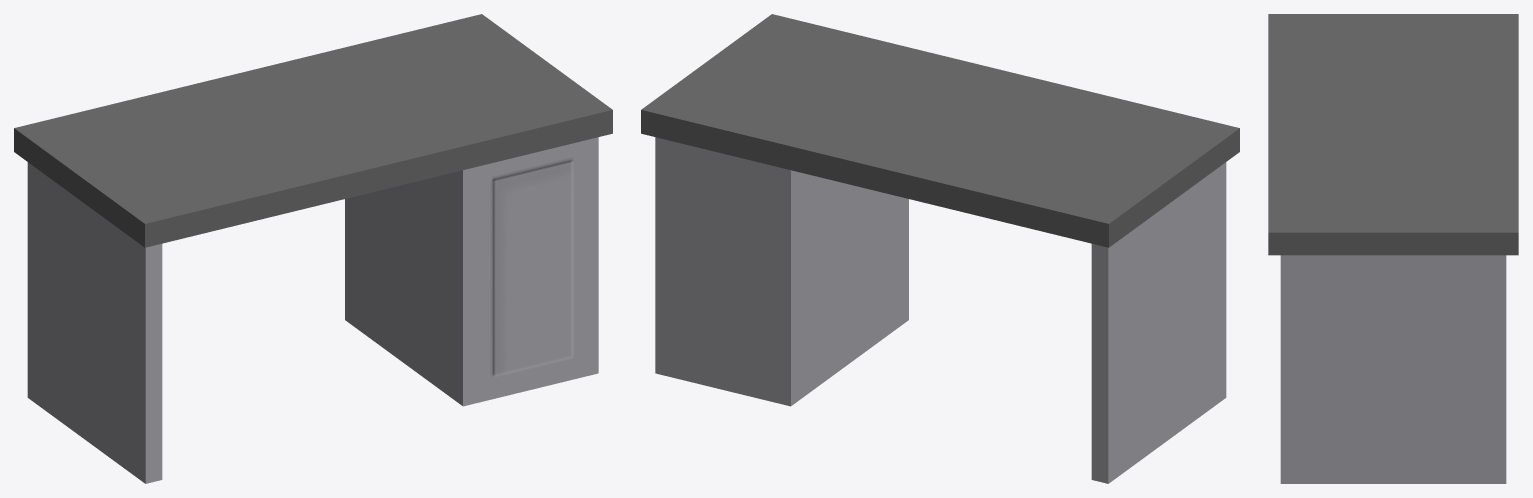
Rendered from Desk_1B.fbx.
3 renders of one model, left to right at view 1: azimuth 30°, elevation 25°; view 2: azimuth 150°, elevation 25°; view 3: azimuth 270°, elevation 25°, orthographic. The views are drawn at different scales.
Visible parts, largest first — view 1: polySurface1505; view 2: polySurface1505; view 3: polySurface1505.
Part boxes in pixels (left/top/right/bottom): polySurface1505: left=14, top=14, right=612, bottom=483; polySurface1505: left=641, top=14, right=1239, bottom=483; polySurface1505: left=1268, top=14, right=1518, bottom=483.
Size of the model in its own units: 1.68 by 0.9158 by 0.8157.
